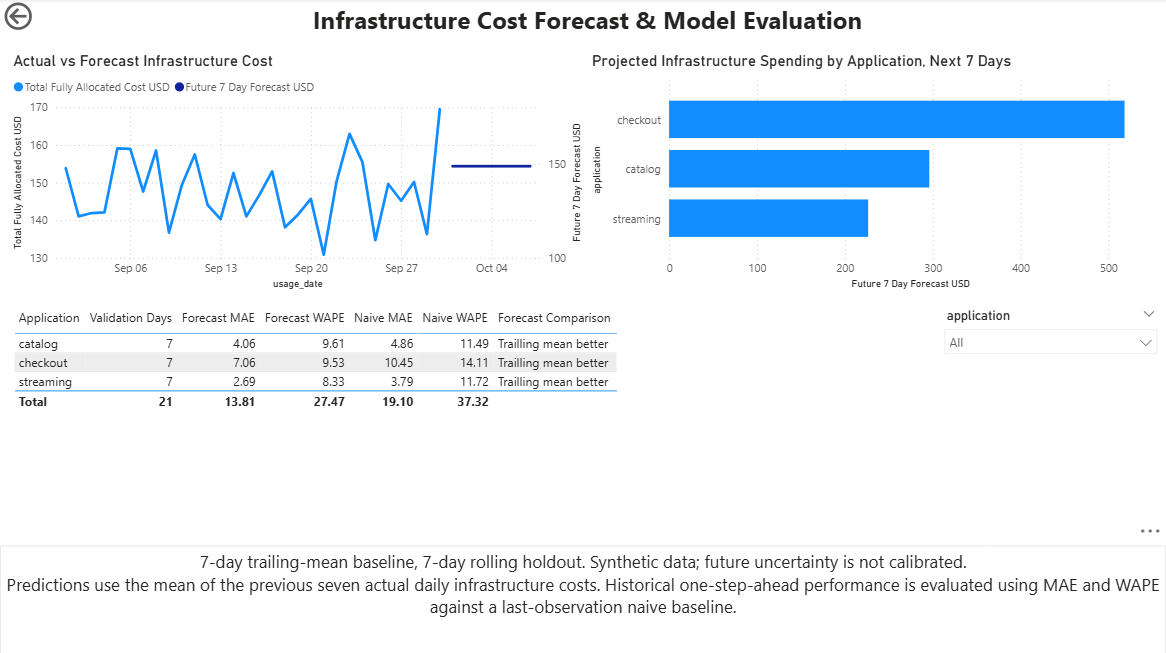

This screenshot's page, from the dashboard's own definition file:
{"tool":"powerbi","page":{"name":"Seven-day Cost Outlook","canvas":[1280,720],"ordinal":3},"visuals":[{"type":"textbox","box":[9.6,0,1270.7,59],"z":0},{"type":"lineChart","title":"Actual vs Forecast Infrastructure Cost","fields":{"Category":["dim_date.usage_date"],"Y":["dim_date.Total Fully Allocated Cost USD"],"Y2":["dim_date.Future 7 Day Forecast USD"]},"box":[9.6,59,635.3,266.2],"z":1},{"type":"clusteredBarChart","title":"Projected Infrastructure Spending by Application, Next 7 Days","fields":{"Category":["dim_application.application"],"Y":["dim_date.Future 7 Day Forecast USD"]},"box":[644.9,59,635.3,266.2],"z":2},{"type":"tableEx","fields":{"Values":["forecast_backtest.application","Sum(forecast_backtest.validation_days)","Sum(forecast_backtest.mae_usd)","Sum(forecast_backtest.wape_pct)","Sum(forecast_backtest.naive_mae_usd)","Sum(forecast_backtest.naive_wape_pct)","forecast_backtest.Forecast Comparison"]},"box":[9.6,334.8,1016.8,266.2],"z":3},{"type":"actionButton","box":[0,0,100,40],"z":4},{"type":"textbox","box":[0,601,1280.3,119.4],"z":5},{"type":"slicer","fields":{"Values":["forecast_backtest.application"]},"box":[1026.4,334.8,253.9,74.1],"z":6}]}

Visuals, with their boxes on the page's 1280x720 design canvas (x1, y1, x2, y2). These are canvas units, not pixel positions in the 1166x653 screenshot, which may show the page scaled, cropped or inside an application window:
textbox: {"left": 10, "top": 0, "right": 1280, "bottom": 59}
"Actual vs Forecast Infrastructure Cost" lineChart: {"left": 10, "top": 59, "right": 645, "bottom": 325}
"Projected Infrastructure Spending by Application, Next 7 Days" clusteredBarChart: {"left": 645, "top": 59, "right": 1280, "bottom": 325}
tableEx - forecast_backtest.application x Sum(forecast_backtest.validation_days): {"left": 10, "top": 335, "right": 1026, "bottom": 601}
actionButton: {"left": 0, "top": 0, "right": 100, "bottom": 40}
textbox: {"left": 0, "top": 601, "right": 1280, "bottom": 720}
slicer - forecast_backtest.application: {"left": 1026, "top": 335, "right": 1280, "bottom": 409}
